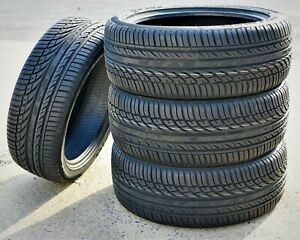tire: (104, 4, 293, 99), (6, 15, 110, 183), (111, 140, 288, 229), (107, 84, 290, 167)
